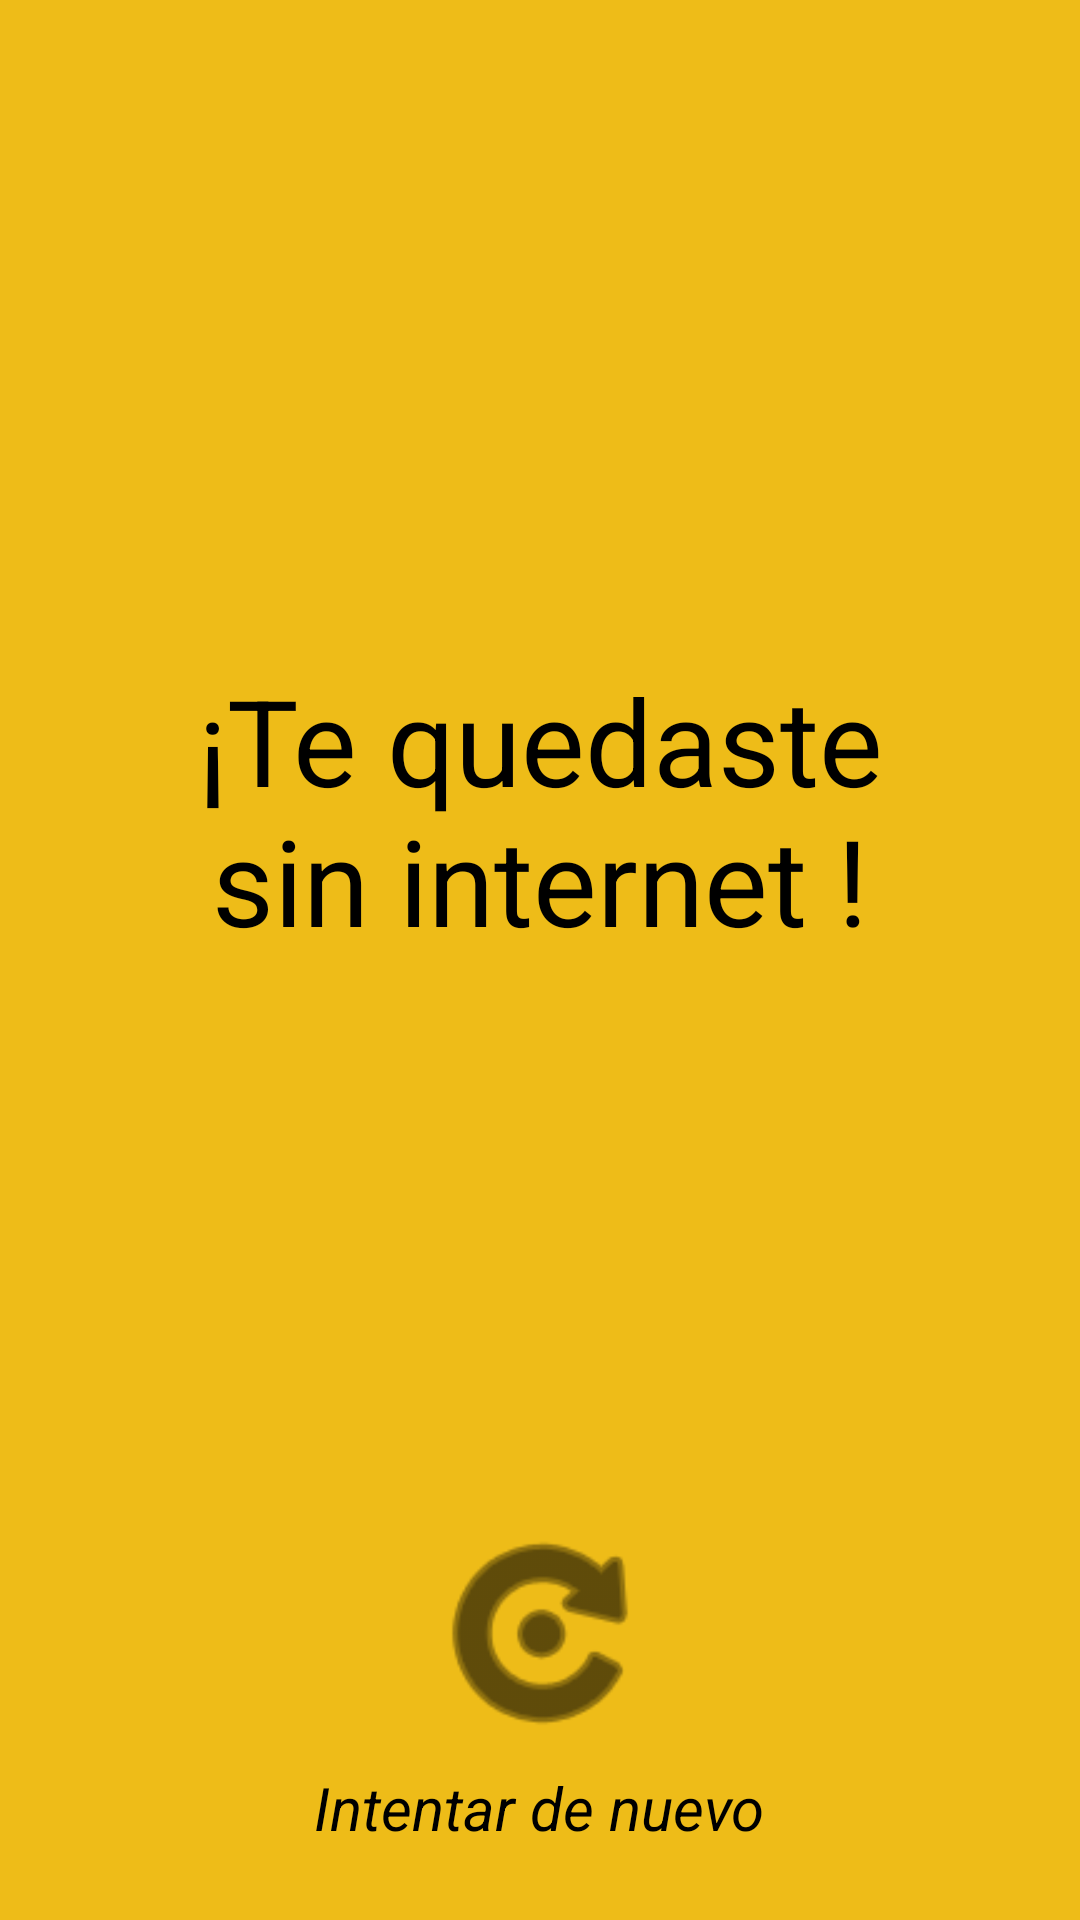

Locate icon controls on the screen. Image size 1080px×1920px, boxes as (x1, y1, x2, y2).
rotate: (452, 1543, 628, 1723)
